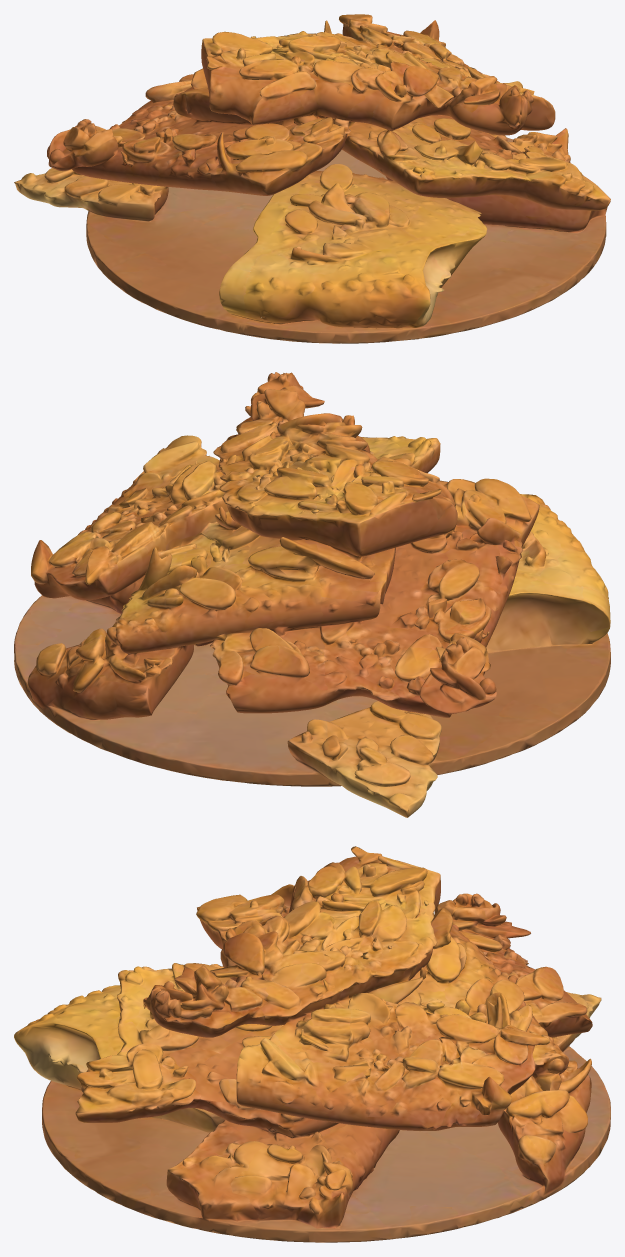
Rendered from tejas.glb.
3 renders of one model, top to bottom at view 1: azimuth 30°, elevation 25°; view 2: azimuth 150°, elevation 25°; view 3: azimuth 270°, elevation 25°, orthographic. The views are drawn at different scales.
Visible parts, largest first — view 1: tripo_node_59f4687f-476b-4d64-9088-7a55ef5b63a4; view 2: tripo_node_59f4687f-476b-4d64-9088-7a55ef5b63a4; view 3: tripo_node_59f4687f-476b-4d64-9088-7a55ef5b63a4.
Part boxes in pixels (left/top/right/bottom): tripo_node_59f4687f-476b-4d64-9088-7a55ef5b63a4: left=14, top=14, right=610, bottom=343; tripo_node_59f4687f-476b-4d64-9088-7a55ef5b63a4: left=14, top=372, right=610, bottom=817; tripo_node_59f4687f-476b-4d64-9088-7a55ef5b63a4: left=14, top=846, right=610, bottom=1242.
Size of the model in its own units: 0.9493 by 0.3815 by 0.9788.
Materials: 1 (1 with a texture image).
